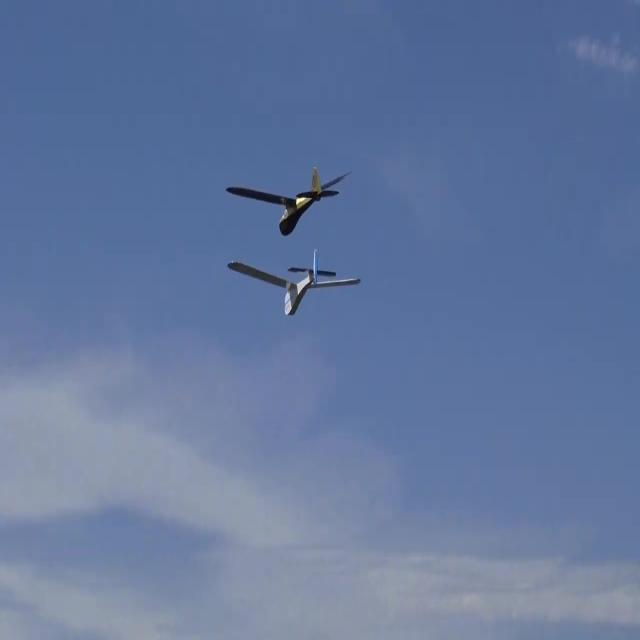iha: (224, 195, 353, 197), (230, 283, 359, 284)
